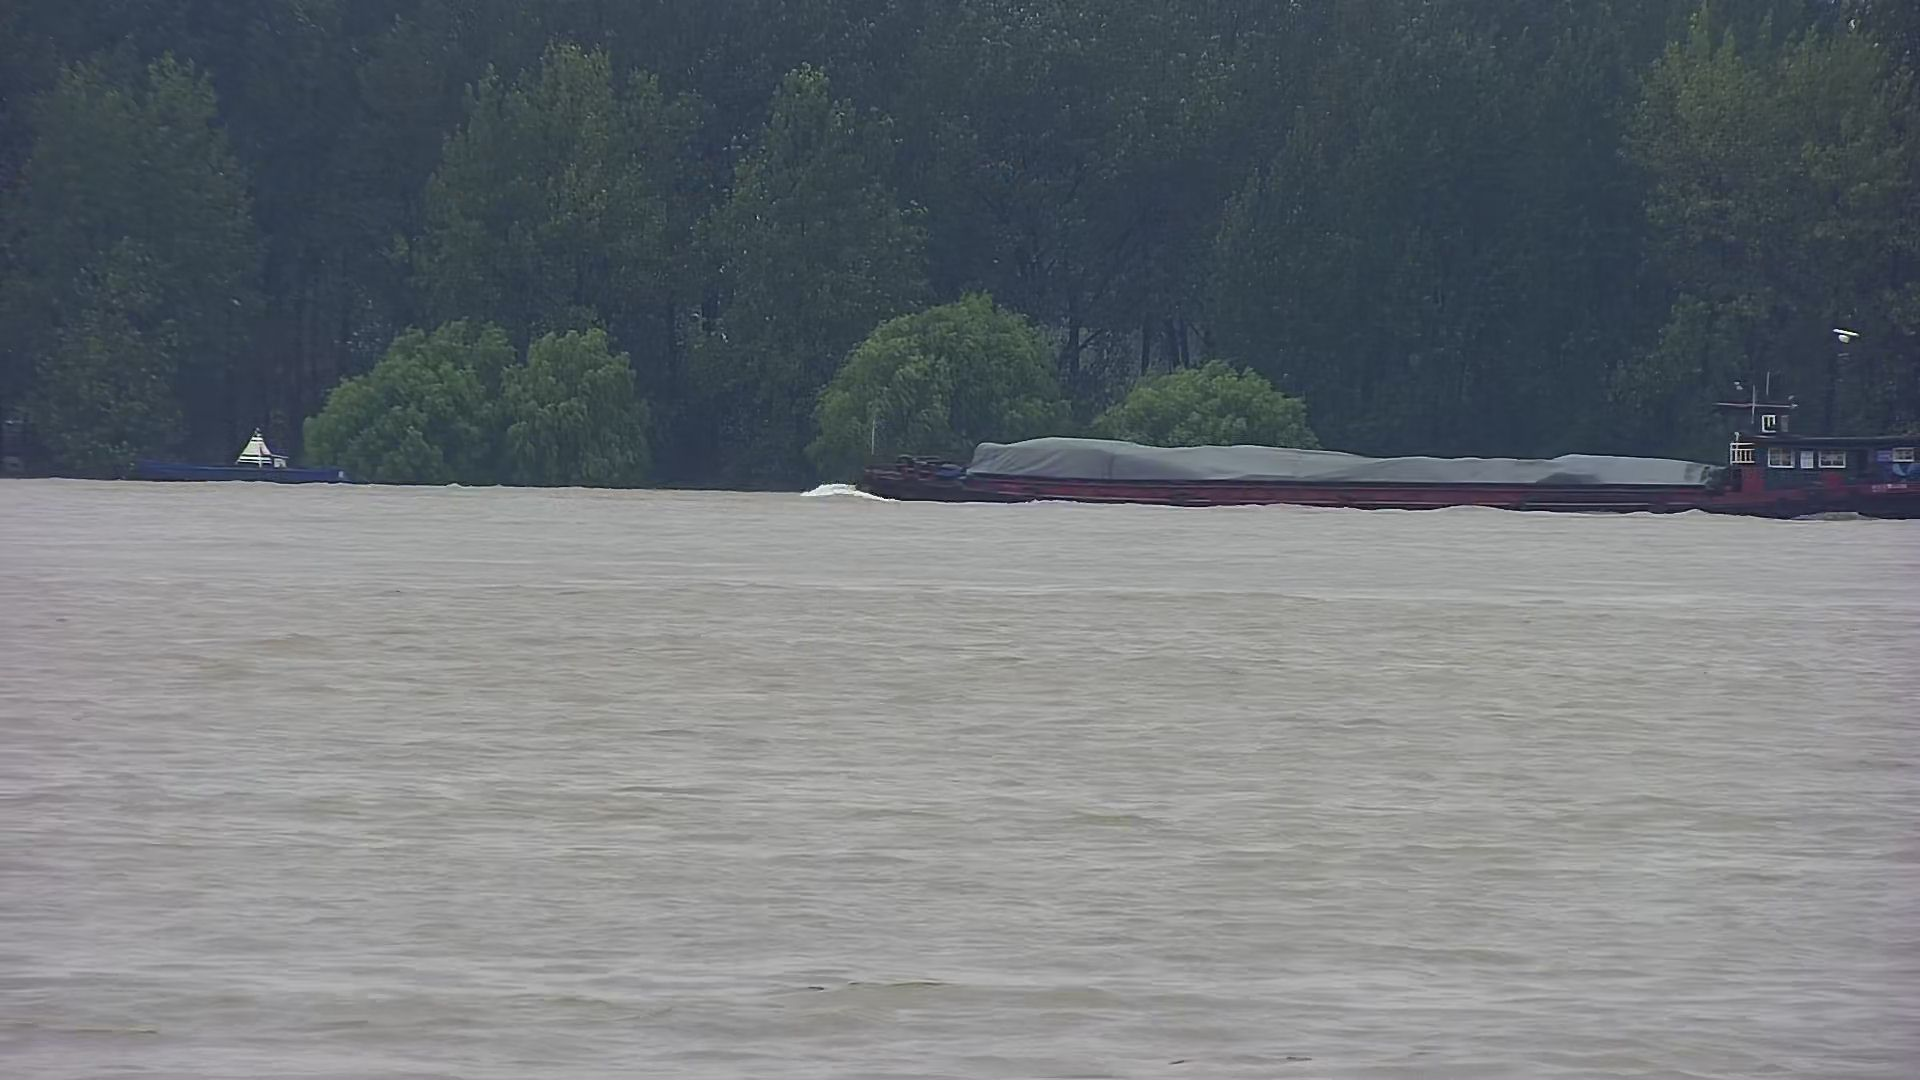boat: (98, 413, 349, 496)
ship: (798, 328, 1920, 533)
